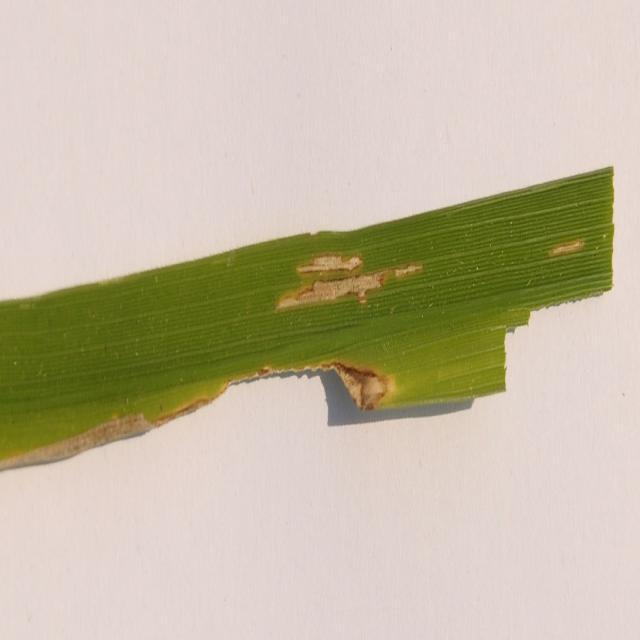bacterial_leaf_blight: (0, 414, 158, 470), (277, 255, 422, 308), (333, 364, 390, 408), (550, 239, 584, 256)
